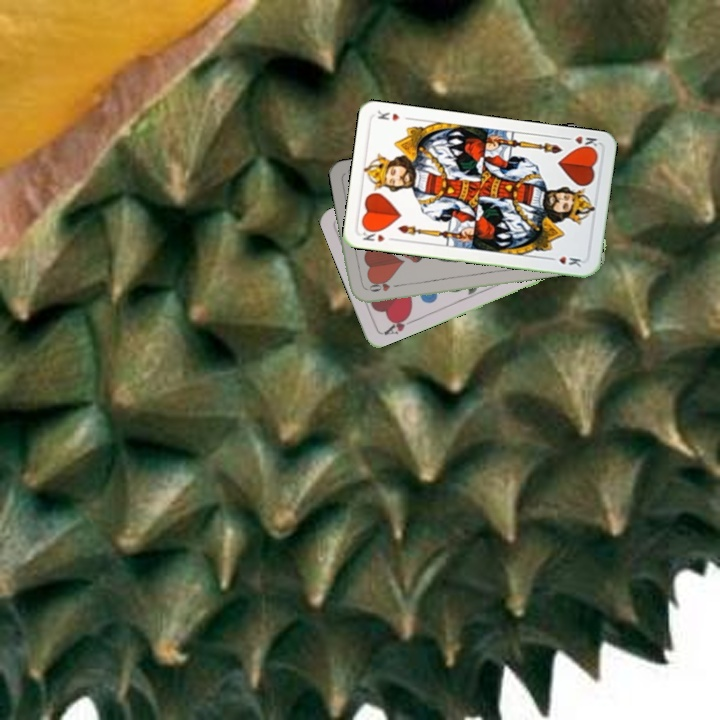HA: (379, 310, 418, 338)
HK: (358, 224, 398, 245), (560, 132, 600, 153)
HO: (362, 279, 403, 294)
